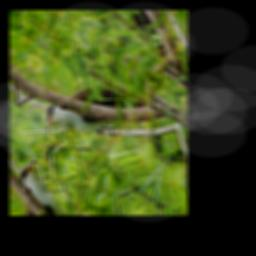Cuckoo: (38, 37, 159, 187)
